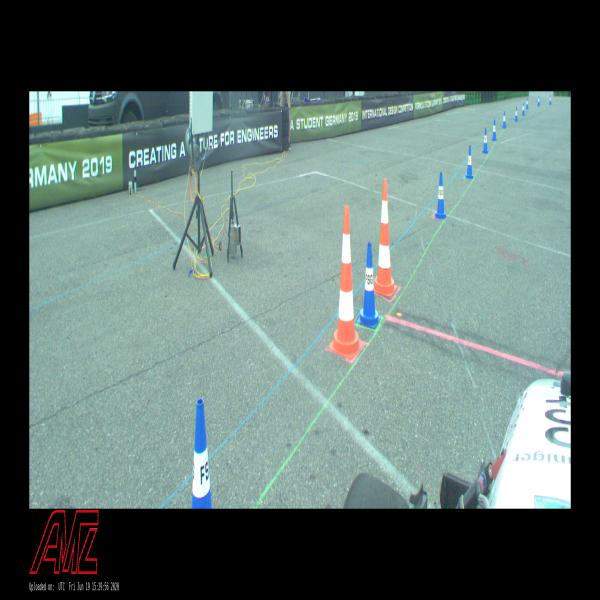blue_cone: (192, 398, 212, 508), (358, 242, 381, 329), (434, 172, 447, 219), (466, 145, 473, 179), (482, 128, 489, 153), (492, 119, 496, 141), (502, 112, 506, 128), (514, 106, 518, 122), (522, 102, 525, 116), (537, 96, 540, 106), (526, 98, 528, 109), (549, 95, 551, 105)
large_orange_cone: (329, 206, 363, 359), (374, 178, 397, 296)
